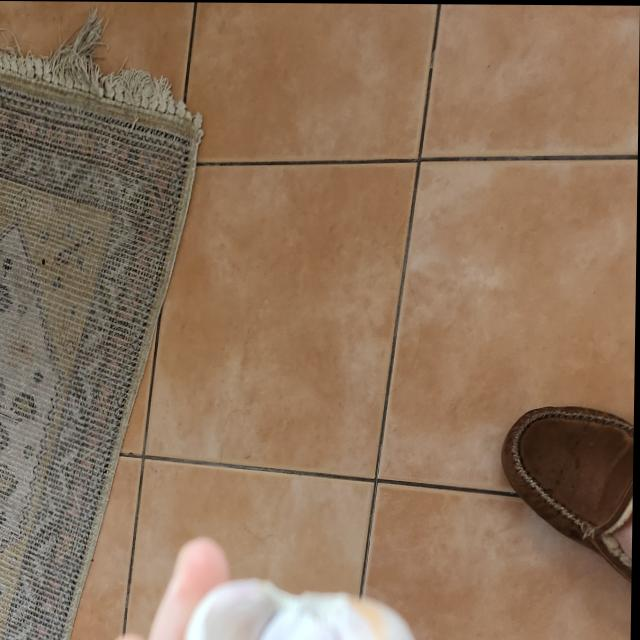garlic: (183, 575, 424, 640)
